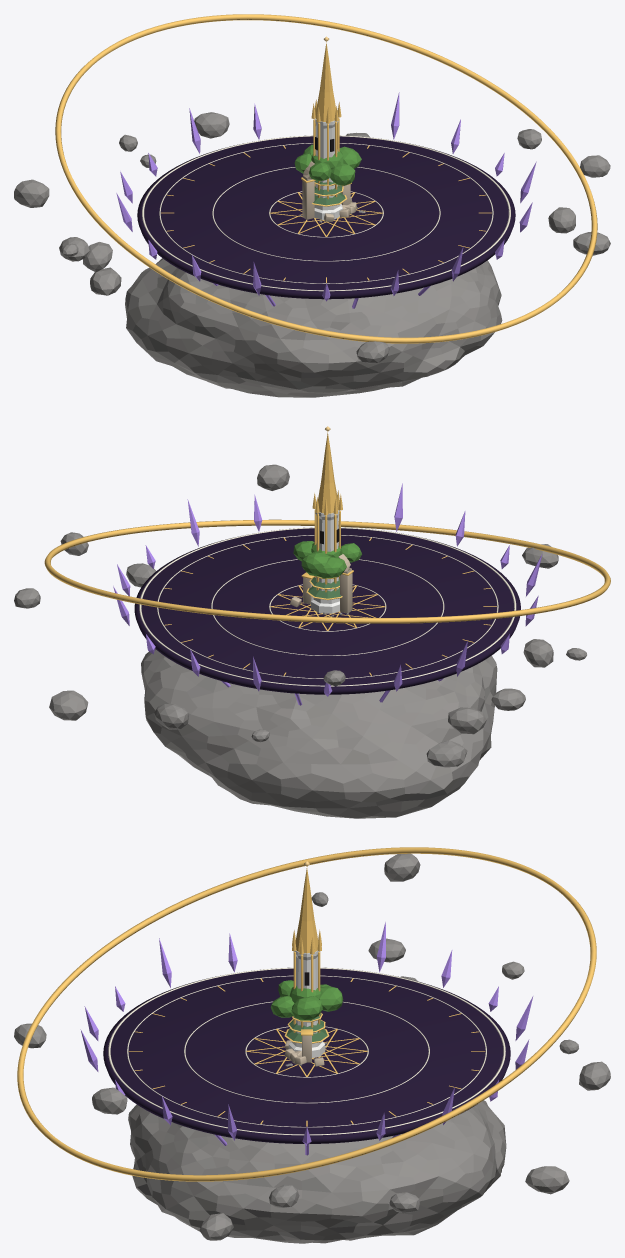
File: BossArena.glb
3 views of the same model, one above another, from view 1: azimuth 30°, elevation 25°; view 2: azimuth 150°, elevation 25°; view 3: azimuth 270°, elevation 25° (orthographic). The views are drawn at different scales.
Parts seen in each view (by area): view 1: NothingStage__Void_1, NothingStage__Rock_1, NothingStage__Gold_1, NothingStage__Star_1, NothingStage__Nebula_1, ArenaOak__Leaf_1, ArenaSpire__Gold_1, ArenaSpire__Marble_1, ArenaRuinArch__StoneWarm_S1; view 2: NothingStage__Rock_1, NothingStage__Void_1, NothingStage__Gold_1, NothingStage__Star_1, NothingStage__Nebula_1, ArenaSpire__Gold_1, ArenaOak__Leaf_1, ArenaSpire__Marble_1, ArenaRuinArch__StoneWarm_S1; view 3: NothingStage__Void_1, NothingStage__Rock_1, NothingStage__Gold_1, NothingStage__Star_1, NothingStage__Nebula_1, ArenaOak__Leaf_1, ArenaSpire__Gold_1, ArenaSpire__Marble_1.
Boxes of the visible parts, box(x1,y1,x2,y2) form: NothingStage__Void_1: box(137, 136, 515, 299); NothingStage__Rock_1: box(14, 112, 610, 397); NothingStage__Gold_1: box(55, 14, 597, 343); NothingStage__Star_1: box(142, 135, 510, 291); NothingStage__Nebula_1: box(116, 92, 536, 308); ArenaOak__Leaf_1: box(294, 144, 361, 185); ArenaSpire__Gold_1: box(311, 42, 341, 199); ArenaSpire__Marble_1: box(314, 118, 342, 219); ArenaRuinArch__StoneWarm_S1: box(302, 180, 350, 219); NothingStage__Rock_1: box(14, 464, 586, 818); NothingStage__Void_1: box(134, 528, 520, 694); NothingStage__Gold_1: box(44, 519, 610, 675); NothingStage__Star_1: box(139, 527, 516, 686); NothingStage__Nebula_1: box(113, 483, 542, 705); ArenaSpire__Gold_1: box(312, 432, 342, 592); ArenaOak__Leaf_1: box(293, 541, 361, 578); ArenaSpire__Marble_1: box(311, 510, 339, 613); ArenaRuinArch__StoneWarm_S1: box(303, 573, 352, 613); NothingStage__Void_1: box(103, 968, 510, 1143); NothingStage__Rock_1: box(14, 853, 610, 1243); NothingStage__Gold_1: box(17, 847, 596, 1181); NothingStage__Star_1: box(108, 967, 505, 1135); NothingStage__Nebula_1: box(80, 922, 533, 1155); ArenaOak__Leaf_1: box(270, 980, 343, 1020); ArenaSpire__Gold_1: box(292, 868, 321, 1035); ArenaSpire__Marble_1: box(288, 950, 325, 1057).
Size of the model in its own units: 327 by 196 by 293.
